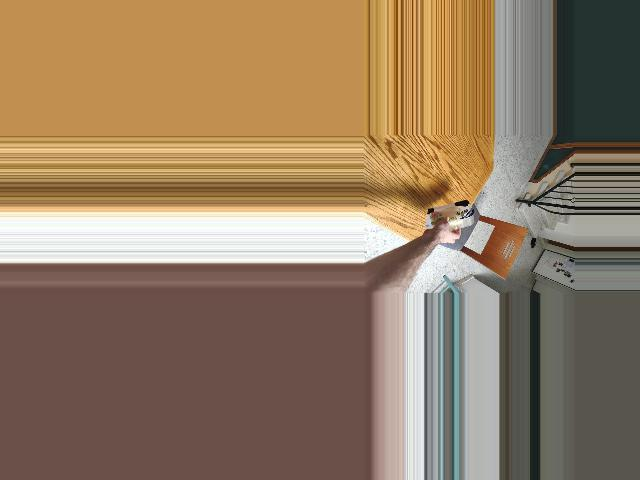cheese: (425, 200, 472, 232)
